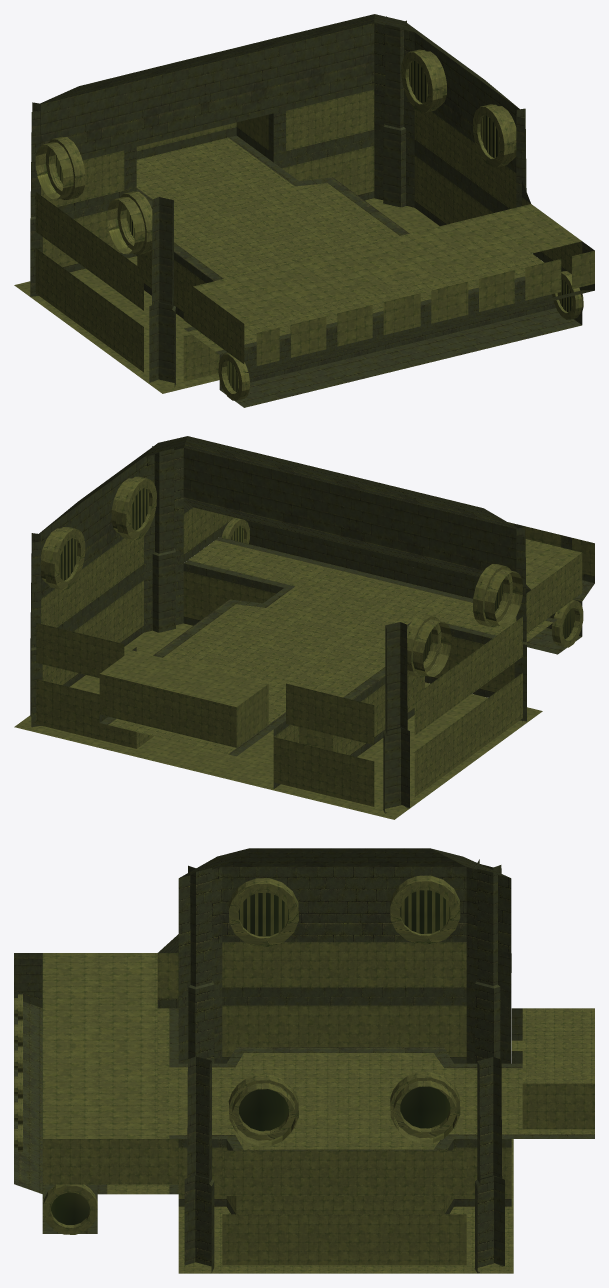
File: Sewer_TJunction.fbx
The picture shows the model from 3 angles, top to bottom: view 1: azimuth 30°, elevation 25°; view 2: azimuth 150°, elevation 25°; view 3: azimuth 270°, elevation 25°; orthographic projection. The views are drawn at different scales.
Visible parts, largest first — view 1: Sewer_TJunction.floor, Sewer_TJunction.Wall; view 2: Sewer_TJunction.floor, Sewer_TJunction.Wall; view 3: Sewer_TJunction.floor, Sewer_TJunction.Wall.
Part boxes in pixels (box(x1,y1,x2,y2)): Sewer_TJunction.floor: box(14, 14, 594, 407); Sewer_TJunction.Wall: box(136, 135, 544, 354); Sewer_TJunction.floor: box(14, 436, 594, 819); Sewer_TJunction.Wall: box(100, 537, 557, 756); Sewer_TJunction.floor: box(14, 848, 594, 1273); Sewer_TJunction.Wall: box(97, 1008, 594, 1194).
Size of the model in its own units: 5751 by 6613 by 2908.
